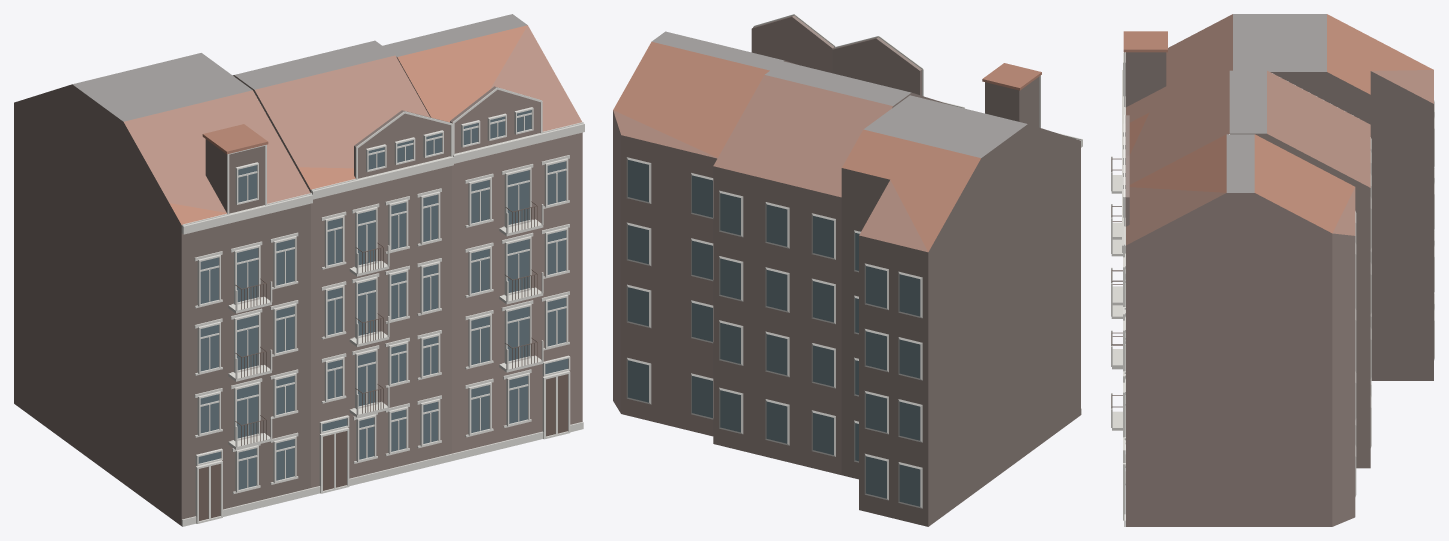
The model's file is chunk-face-retief-45-75-r1.glb.
The picture shows the model from 3 angles, left to right: view 1: azimuth 30°, elevation 25°; view 2: azimuth 150°, elevation 25°; view 3: azimuth 270°, elevation 25°; orthographic projection. The views are drawn at different scales.
Parts seen in each view (by area): view 1: face-retief-45-75-r1; view 2: face-retief-45-75-r1; view 3: face-retief-45-75-r1.
Boxes of the visible parts, bbox=[...] form: face-retief-45-75-r1: bbox=[14, 14, 584, 526]; face-retief-45-75-r1: bbox=[613, 14, 1082, 526]; face-retief-45-75-r1: bbox=[1111, 14, 1434, 526].
Bounding box in the file's own units: 18.46 × 16.04 × 14.03.
